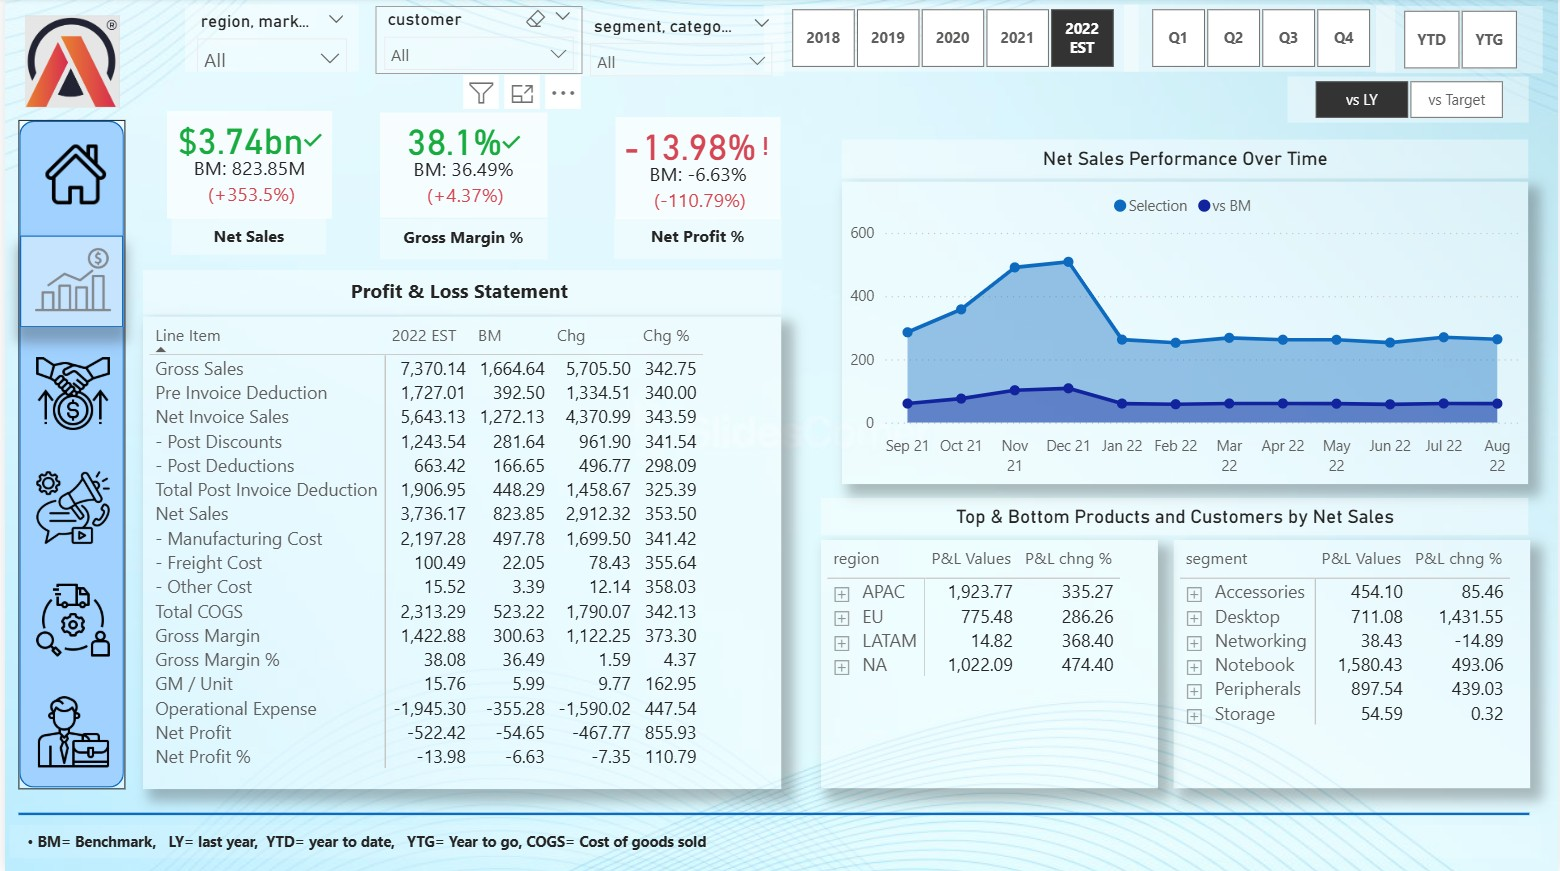

Layout of this report page (visuals, bound fields, positions):
{"tool":"powerbi","page":{"name":"Finance View ","canvas":[1280,720],"ordinal":1},"visuals":[{"type":"pivotTable","fields":{"Rows":["P&L Rows.Line Item"],"Values":["Key Measures.P & L Final Value"],"Columns":["P&L Col headers.col header"]},"box":[113.4,263,526.1,389],"z":0},{"type":"slicer","fields":{"Values":["fiscal_year.FY_description"]},"box":[625.3,6.3,308.7,55.1],"z":1000},{"type":"slicer","fields":{"Values":["dim_date.fy_quarter"]},"box":[921.4,6.3,223.7,55.1],"z":2000},{"type":"slicer","fields":{"Values":["dim_date.YTD_YTG"]},"box":[1129.3,7.9,137,55.1],"z":3000},{"type":"areaChart","fields":{"Category":["dim_date.date"],"Y":["Key Measures.P&L Values","Key Measures.P&L Values BM"]},"box":[689.9,152.2,565.2,249.3],"z":4000},{"type":"pivotTable","fields":{"Rows":["dim_market.region","dim_market.market","dim_customer.customer"],"Values":["Key Measures.P&L Values","Key Measures.YOY chng %"]},"box":[672.4,447.6,277.5,204.6],"z":5000},{"type":"pivotTable","fields":{"Values":["Key Measures.P&L Values","Key Measures.YOY chng %"],"Rows":["dim_product.segment","dim_product.product"]},"box":[962,447.6,293.7,204.6],"z":6000},{"type":"slicer","fields":{"Values":["dim_market.region","dim_market.market"]},"box":[148.1,6.3,143.3,55.1],"z":7000},{"type":"slicer","fields":{"Values":["dim_product.segment","dim_product.category"]},"box":[472.5,9.5,170.1,55.1],"z":8000},{"type":"slicer","fields":{"Values":["dim_customer.customer"]},"box":[305.6,7.9,170.1,55.1],"z":9000},{"type":"card","fields":{"Values":["Key Measures.Performance Visual Title"]},"box":[689.9,117.4,565.2,31.9],"z":10000},{"type":"card","fields":{"Values":["Key Measures.Top /Bottom n Title"]},"box":[672.5,413,582.6,30.4],"z":11000},{"type":"textbox","box":[113.5,224.4,525.8,36.5],"z":12000},{"type":"image","box":[11,9.5,88.2,86.6],"z":13000},{"type":"shape","box":[11,100.8,88.2,551.3],"z":14000},{"type":"image","box":[17.7,116.6,81.9,59.9],"z":15000},{"type":"image","box":[15.8,196.9,80.3,72.5],"z":16000},{"type":"image","box":[15.8,289.8,80.3,72.5],"z":17000},{"type":"image","box":[15.8,384.3,80.3,72.5],"z":18000},{"type":"image","box":[15.8,477.2,80.3,72.5],"z":19000},{"type":"image","box":[15.8,570.2,80.3,70.9],"z":20000},{"type":"shape","box":[12.6,196.9,85.1,75.6],"z":21000},{"type":"kpi","fields":{"TrendLine":["dim_date.fiscal_year"],"Indicator":["Key Measures.GM %"],"Goal":["Key Measures.GM % BM"]},"box":[308.7,95.7,137.7,87],"z":22000},{"type":"kpi","fields":{"TrendLine":["dim_date.fiscal_year"],"Indicator":["Key Measures.Net Profit %"],"Goal":["Key Measures.Net Profit % BM"]},"box":[502.9,98.6,136.2,84.1],"z":23000},{"type":"textbox","box":[137.7,181.2,127.5,30.4],"z":24000},{"type":"textbox","box":[501.5,181.1,137.9,33.8],"z":25000},{"type":"textbox","box":[308.7,182.6,137.7,33.3],"z":26000},{"type":"kpi","fields":{"Indicator":["Key Measures.NS $"],"TrendLine":["dim_date.fiscal_year"],"Goal":["Key Measures.NS $ BM"]},"box":[133.3,94.2,136.2,88.4],"z":27000},{"type":"slicer","fields":{"Values":["Set BM.Benchmarks"]},"box":[1056.5,65.2,198.6,37.7],"z":28000},{"type":"cardVisual","fields":{"Data":["Key Measures.BM blank message"]},"box":[168.1,66.8,388.9,32.4],"z":29000},{"type":"textbox","box":[4.1,682.6,1261.2,27],"z":30000},{"type":"shape","box":[10.8,650.2,1244.9,46],"z":31000}]}

Visuals, with their boxes in screenshot pixels (x1, y1, x2, y2), scaled from the page's 1280x720 canvas onto the 1560x871 screenshot:
pivotTable - P&L Rows.Line Item x Key Measures.P & L Final Value: select_region(138, 318, 779, 789)
slicer - fiscal_year.FY_description: select_region(762, 8, 1138, 74)
slicer - dim_date.fy_quarter: select_region(1123, 8, 1396, 74)
slicer - dim_date.YTD_YTG: select_region(1376, 10, 1543, 76)
areaChart - dim_date.date x Key Measures.P&L Values: select_region(841, 184, 1530, 486)
pivotTable - dim_market.region x dim_market.market: select_region(819, 541, 1158, 789)
pivotTable - Key Measures.P&L Values x Key Measures.YOY chng %: select_region(1172, 541, 1530, 789)
slicer - dim_market.region x dim_market.market: select_region(180, 8, 355, 74)
slicer - dim_product.segment x dim_product.category: select_region(576, 11, 783, 78)
slicer - dim_customer.customer: select_region(372, 10, 580, 76)
card - Key Measures.Performance Visual Title: select_region(841, 142, 1530, 181)
card - Key Measures.Top /Bottom n Title: select_region(820, 500, 1530, 536)
textbox: select_region(138, 271, 779, 316)
image: select_region(13, 11, 121, 116)
shape: select_region(13, 122, 121, 789)
image: select_region(22, 141, 121, 214)
image: select_region(19, 238, 117, 326)
image: select_region(19, 351, 117, 438)
image: select_region(19, 465, 117, 553)
image: select_region(19, 577, 117, 665)
image: select_region(19, 690, 117, 776)
shape: select_region(15, 238, 119, 330)
kpi - dim_date.fiscal_year x Key Measures.GM %: select_region(376, 116, 544, 221)
kpi - dim_date.fiscal_year x Key Measures.Net Profit %: select_region(613, 119, 779, 221)
textbox: select_region(168, 219, 323, 256)
textbox: select_region(611, 219, 779, 260)
textbox: select_region(376, 221, 544, 261)
kpi - Key Measures.NS $ x dim_date.fiscal_year: select_region(162, 114, 328, 221)
slicer - Set BM.Benchmarks: select_region(1288, 79, 1530, 124)
cardVisual - Key Measures.BM blank message: select_region(205, 81, 679, 120)
textbox: select_region(5, 826, 1542, 858)
shape: select_region(13, 787, 1530, 842)
